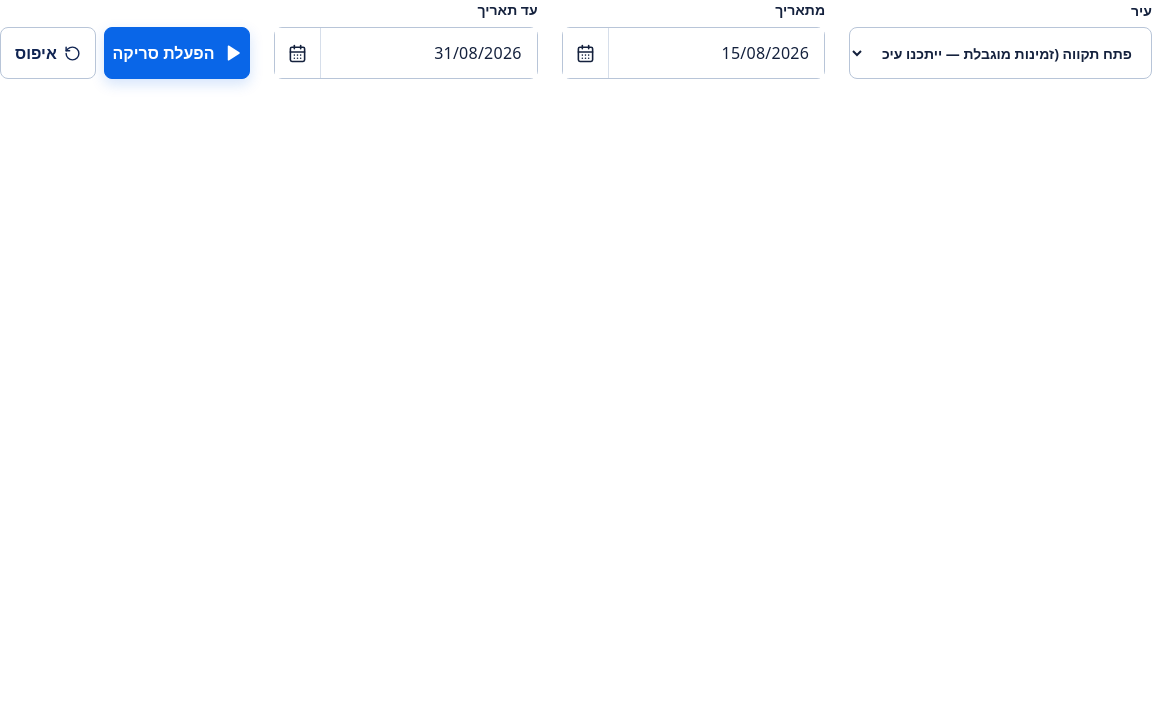
Test: RunForm date display › opens the in-app calendar and selects a date
Click the button named "פתיחת לוח שנה: מתאריך" at (586, 53), box x1=563 y1=28 x2=609 y2=78
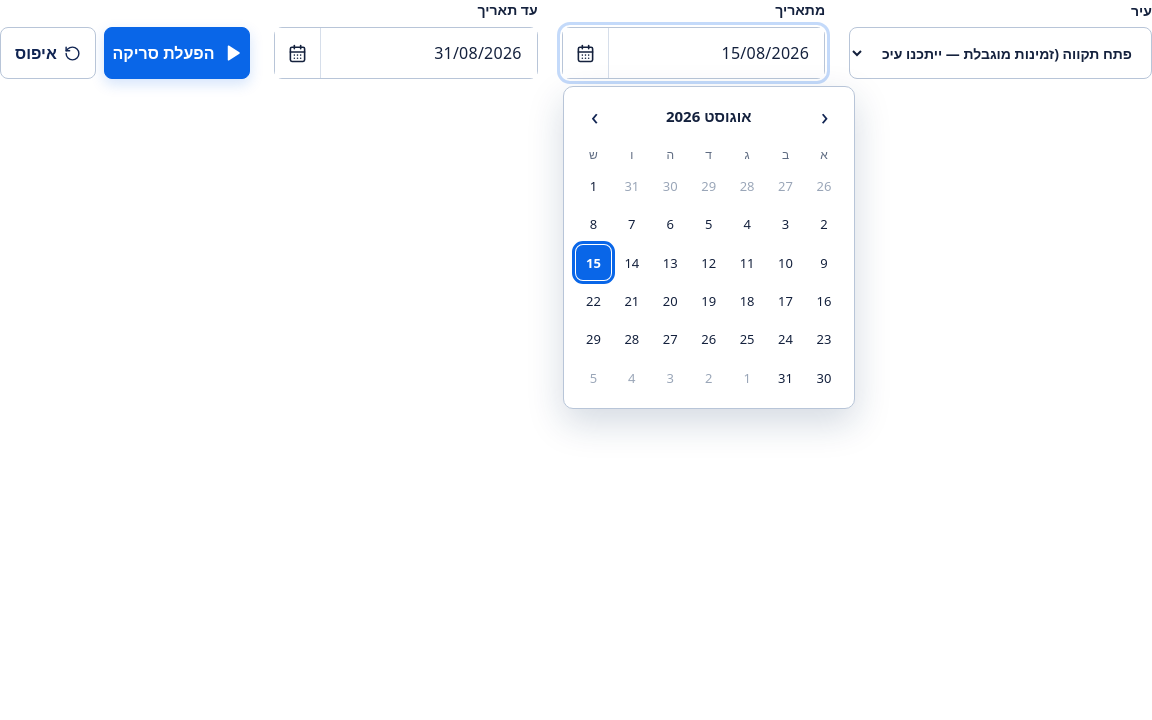
Expected: the dialog named "בחירת תאריך: מתאריך" is shown, x1=563 y1=86 x2=855 y2=409
Click the button named "01/08/2026" at (593, 186), box x1=576 y1=168 x2=611 y2=203
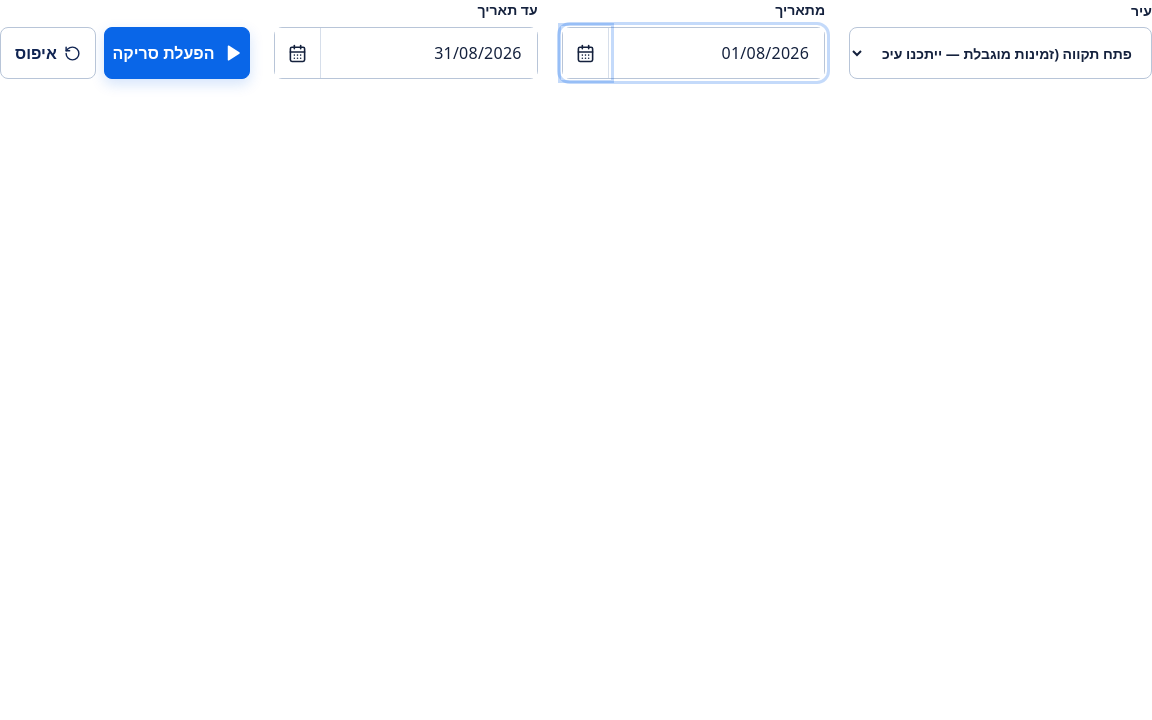
Expected: the field labelled "מתאריך" holds "01/08/2026", x1=609 y1=28 x2=824 y2=78
